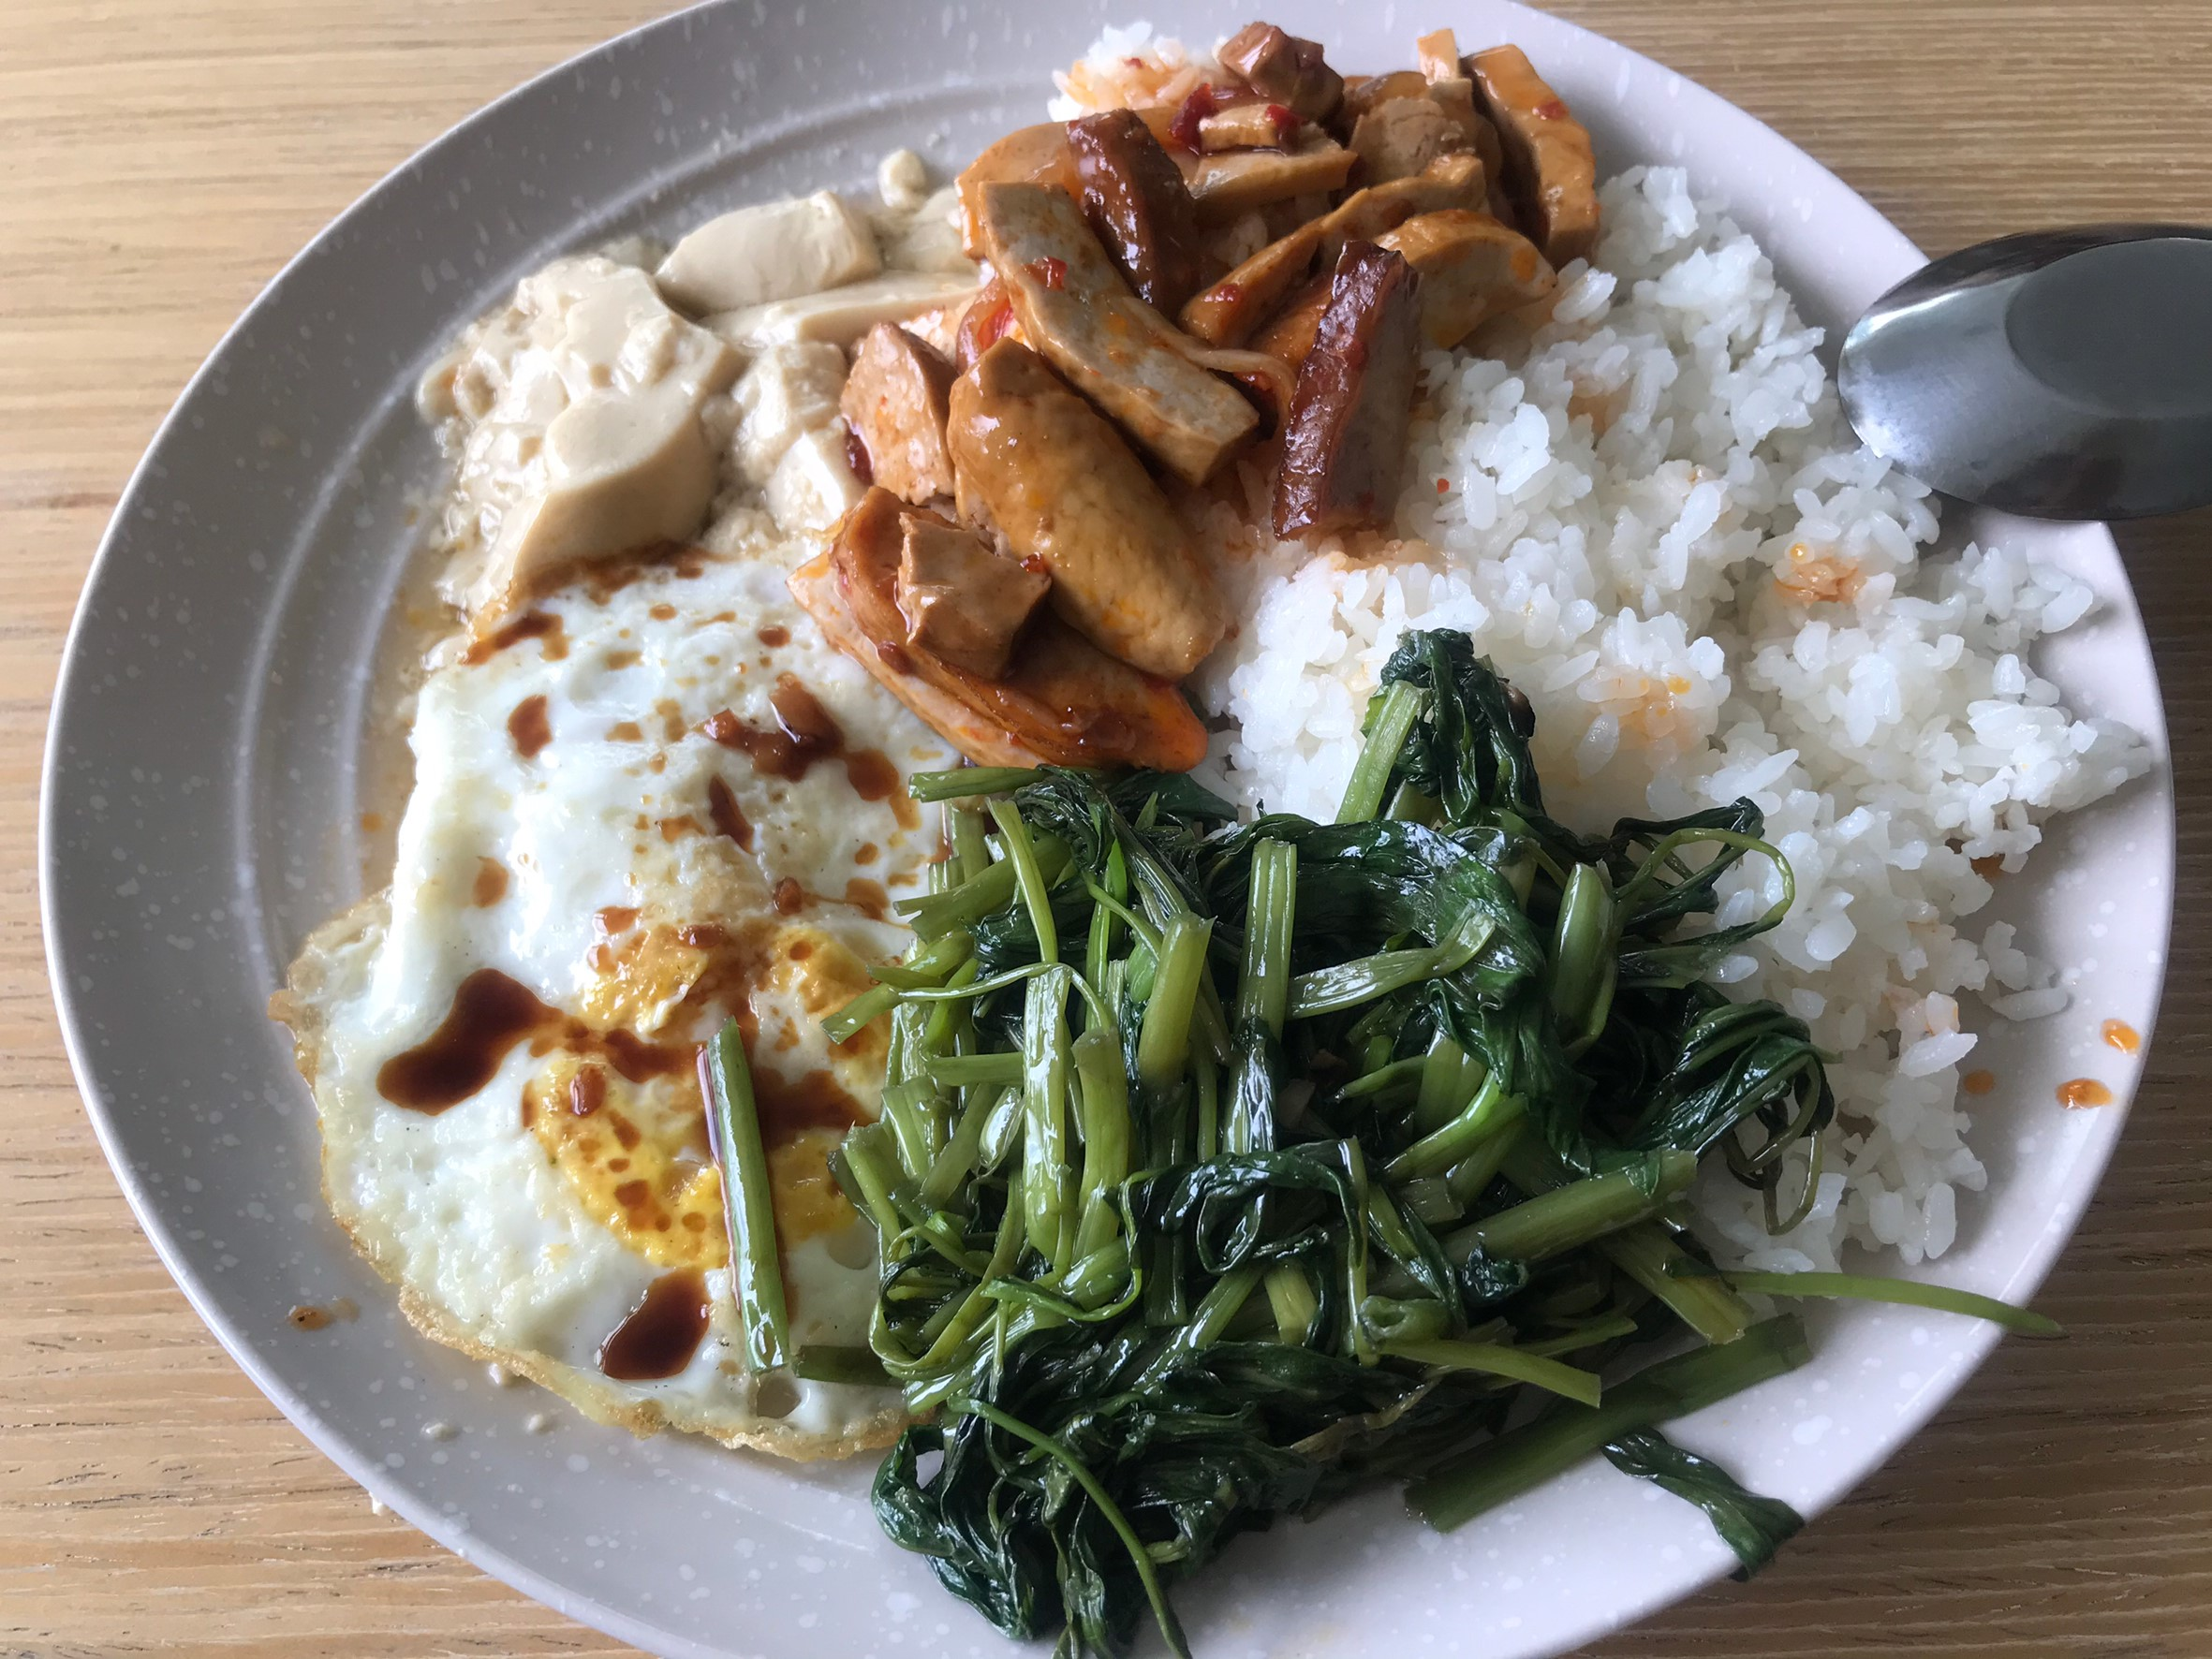fried_eggs: (274, 582, 934, 1464)
rice: (1384, 260, 2029, 777)
water_spinach: (947, 772, 1719, 1577)
